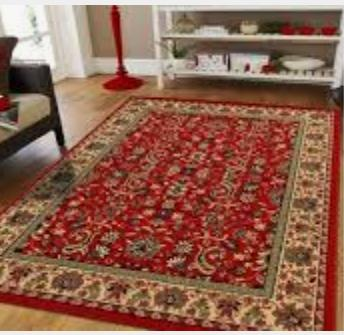carpet: (0, 96, 339, 331)
